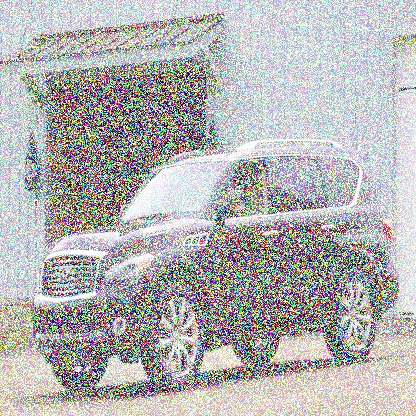Vehicle: (32, 137, 402, 396)
